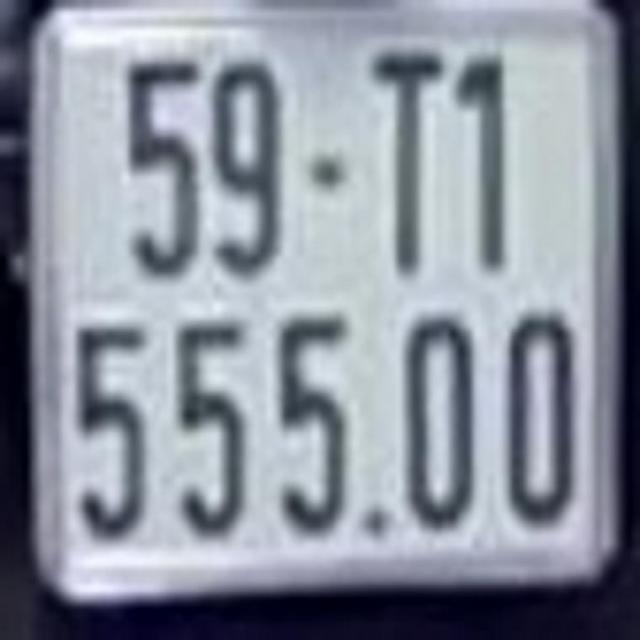0: (398, 304, 481, 530), (500, 298, 578, 533)
1: (446, 41, 520, 273)
5: (122, 51, 205, 276), (270, 309, 349, 538), (72, 316, 151, 543), (172, 313, 248, 538)
9: (205, 54, 283, 278)
T: (367, 40, 446, 274)
